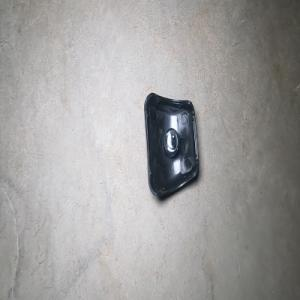LuggagePart: (143, 91, 199, 201)
